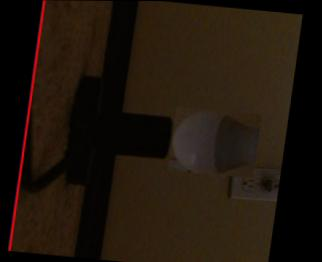Fan: (168, 106, 262, 177)
